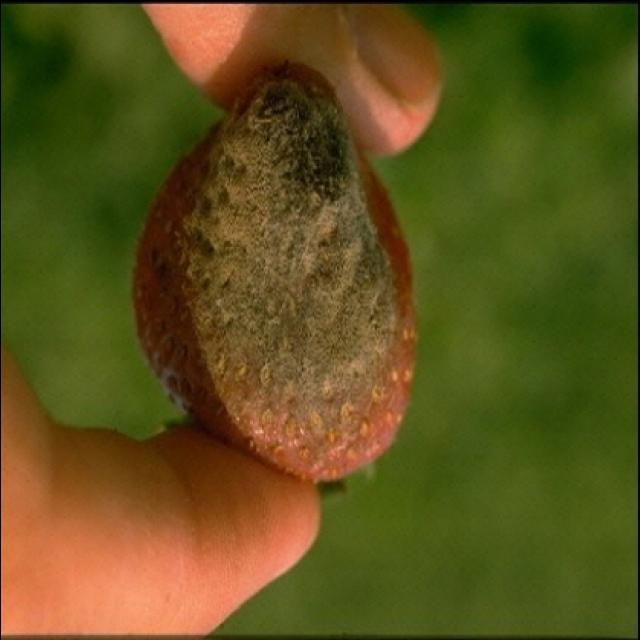Gray Mold: (157, 65, 411, 471)
